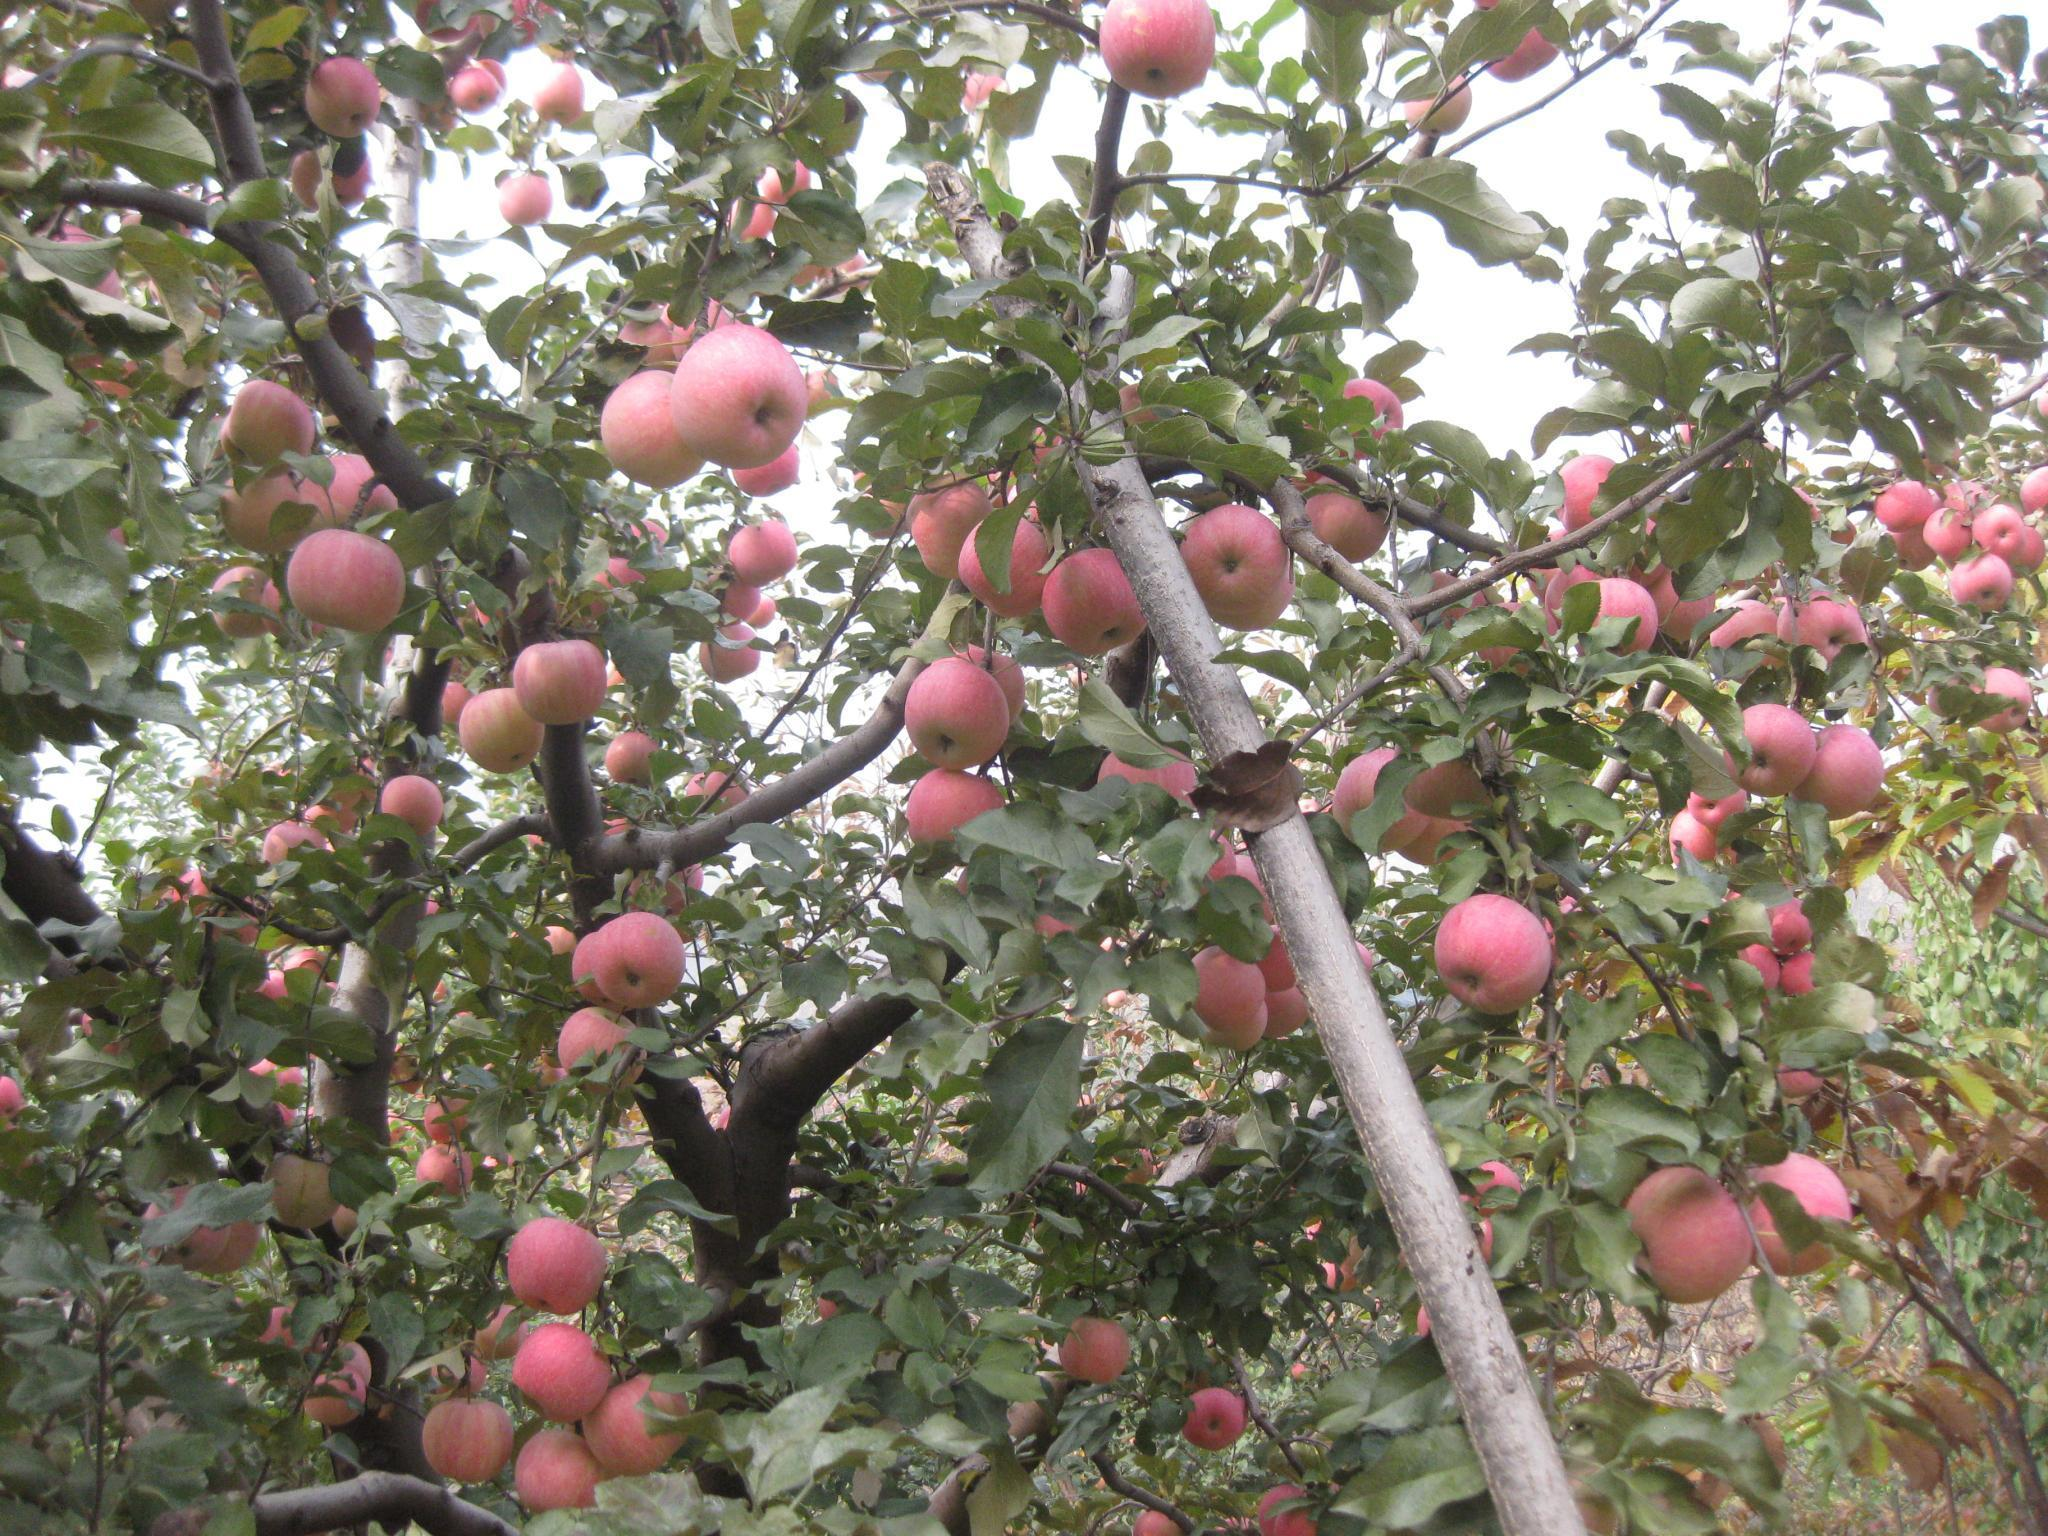apple: (671, 324, 806, 468), (1625, 1165, 1751, 1300), (1434, 891, 1551, 1013), (221, 449, 353, 552), (600, 368, 711, 489), (901, 652, 1014, 770), (1180, 505, 1292, 624), (285, 528, 405, 634), (568, 910, 685, 1015), (1097, 2, 1214, 98), (1039, 549, 1143, 657), (582, 1373, 692, 1475), (1334, 749, 1435, 857), (510, 1320, 611, 1425), (1272, 486, 1393, 573), (505, 1217, 606, 1320), (908, 474, 998, 579), (959, 510, 1050, 615), (506, 637, 610, 724), (510, 1421, 601, 1513), (1775, 576, 1866, 670), (1725, 703, 1816, 797), (419, 1396, 514, 1484), (1188, 944, 1268, 1049), (1800, 723, 1884, 821), (901, 766, 1000, 845), (556, 1005, 643, 1092), (1751, 1150, 1853, 1225), (455, 686, 540, 773), (227, 382, 314, 460), (302, 55, 381, 134), (268, 1141, 334, 1229), (1055, 1313, 1127, 1383), (1963, 666, 2030, 736), (729, 516, 798, 582), (1180, 1384, 1247, 1450), (377, 771, 443, 836), (493, 166, 555, 226), (1946, 553, 2013, 608), (1709, 599, 1777, 649), (1875, 481, 1930, 532), (1972, 503, 2029, 553), (1922, 505, 1972, 560)
